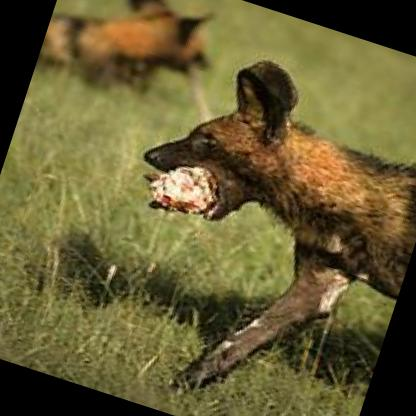African_hunting_dog: (73, 32, 416, 416)
